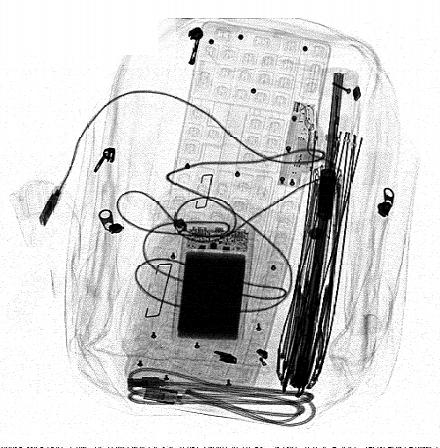Powerbank: (169, 223, 257, 347)
